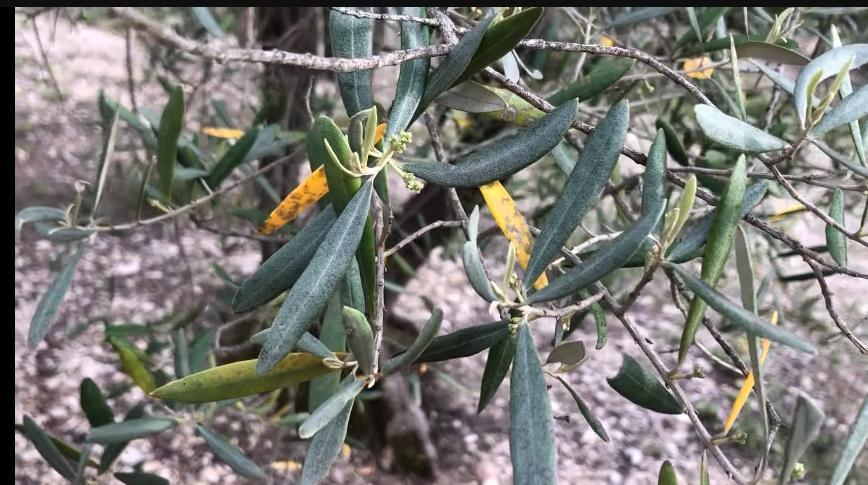OlivePeacockSpot: (152, 351, 346, 411), (506, 324, 560, 485), (260, 172, 326, 236), (488, 184, 531, 256), (342, 306, 378, 378), (505, 94, 538, 130), (592, 308, 609, 351)
